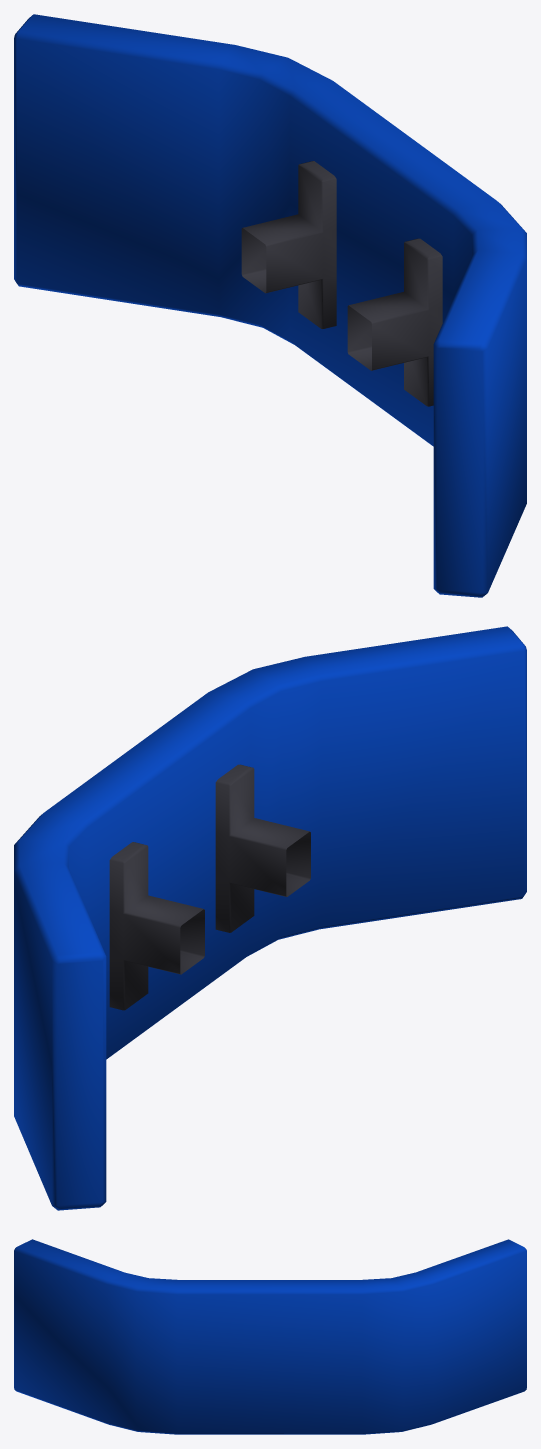
Rendered from SM_HUB_Support_teles.fbx.
3 views of the same model, one above another, from view 1: azimuth 30°, elevation 25°; view 2: azimuth 150°, elevation 25°; view 3: azimuth 270°, elevation 25° (orthographic). The views are drawn at different scales.
Visible parts, largest first — view 1: SM_HUB_Support_teles; view 2: SM_HUB_Support_teles; view 3: SM_HUB_Support_teles.
Boxes of the visible parts, left/top/right/bottom form: SM_HUB_Support_teles: left=14, top=14, right=526, bottom=597; SM_HUB_Support_teles: left=14, top=626, right=526, bottom=1210; SM_HUB_Support_teles: left=14, top=1239, right=526, bottom=1434.
Size of the model in its own units: 174 by 219 by 705.
